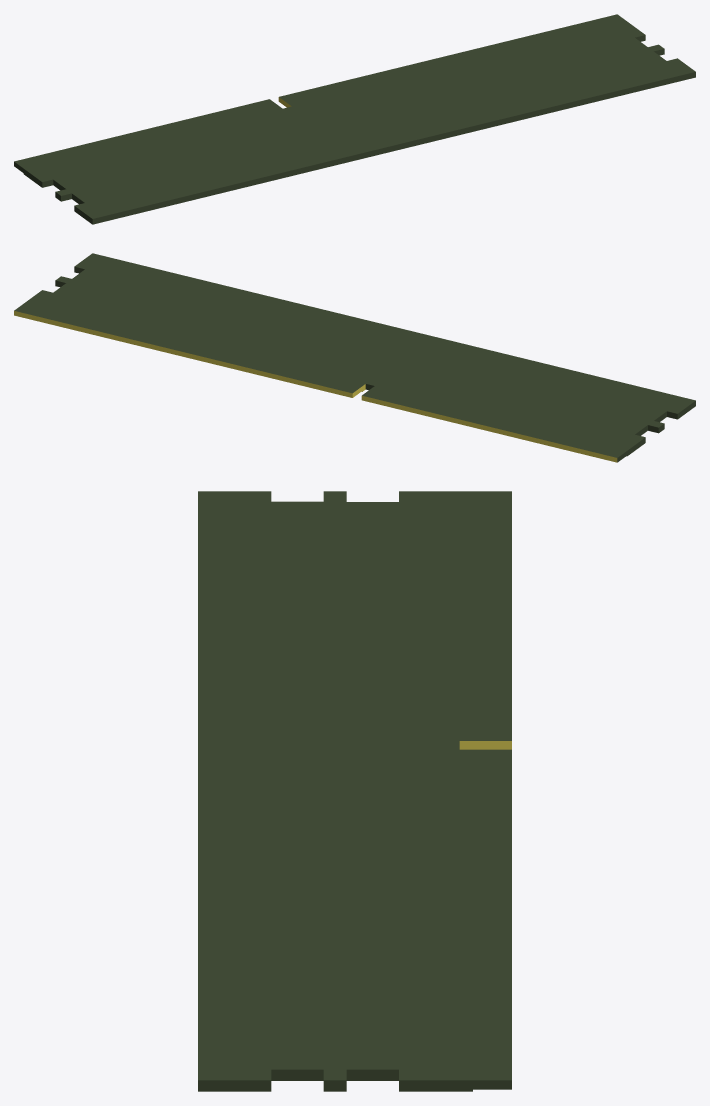
File: ram spinning animation.glb
3 renders of one model, top to bottom at view 1: azimuth 30°, elevation 25°; view 2: azimuth 150°, elevation 25°; view 3: azimuth 270°, elevation 25°, orthographic. The views are drawn at different scales.
Visible parts, largest first — view 1: Mesh_1; view 2: Mesh_1; view 3: Mesh_1.
Part boxes in pixels (bbox=[...]): Mesh_1: bbox=[14, 14, 695, 224]; Mesh_1: bbox=[14, 253, 695, 462]; Mesh_1: bbox=[198, 491, 511, 1091].
Bounding box in the file's own units: 26.6 × 0.28 × 6.
